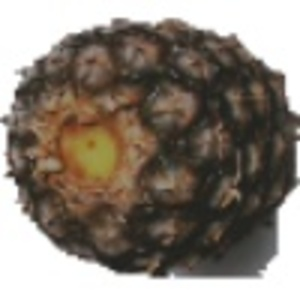abacaxi: (5, 11, 295, 271)
